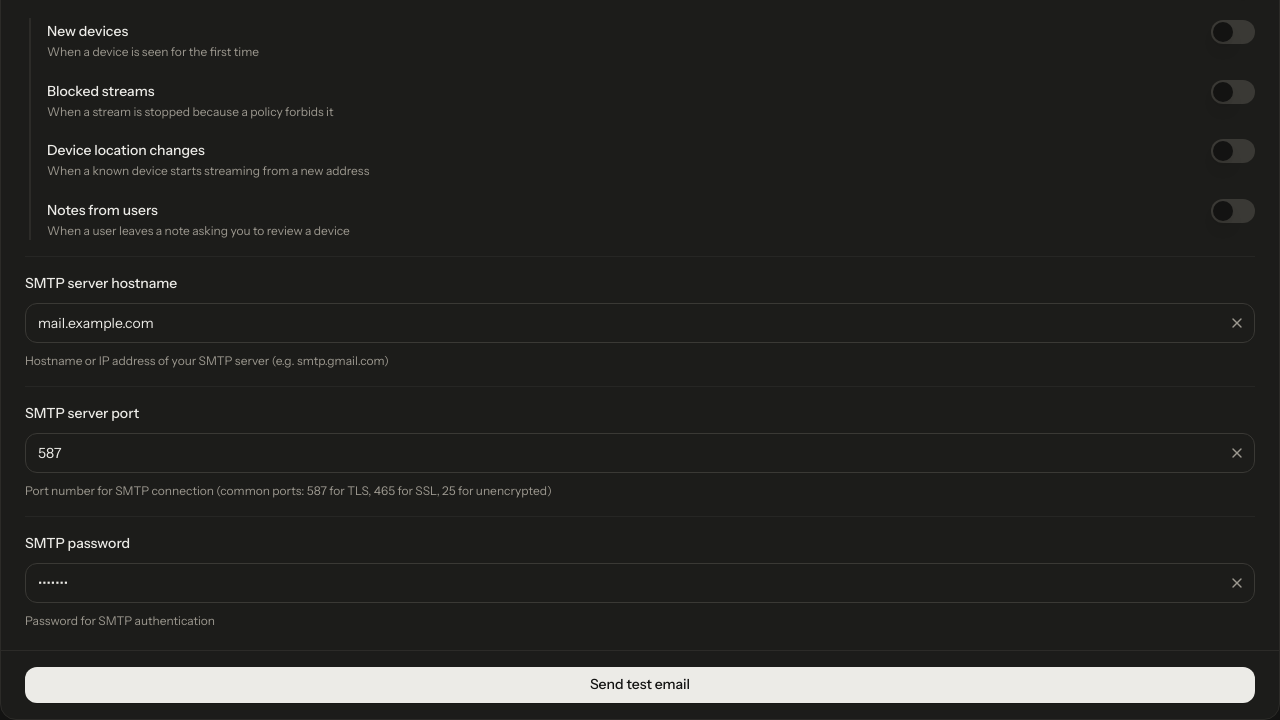
Test: SMTPSettings › sending a test email › falls back when the server gives no message
(page scrolled)
Click the button "Send test email" at (640, 685), box [25, 667, 1255, 703]
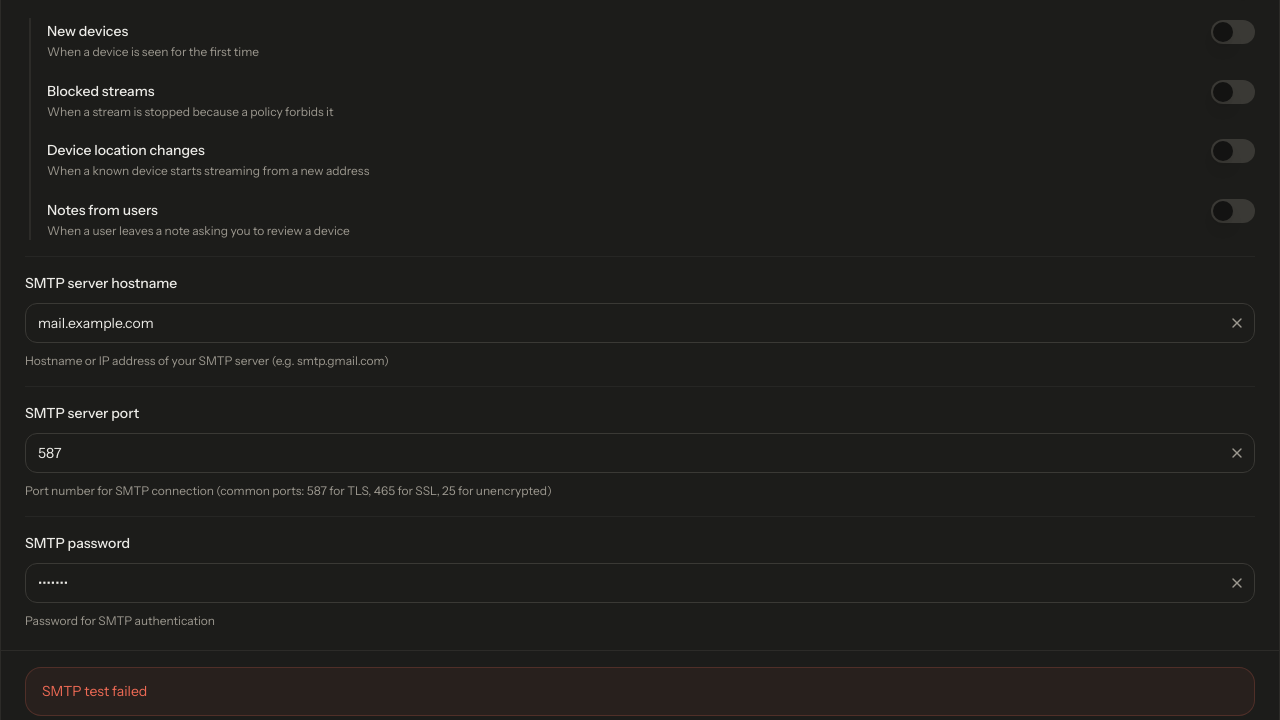
Result: the text "SMTP test failed" is shown at [42, 682, 147, 700]
